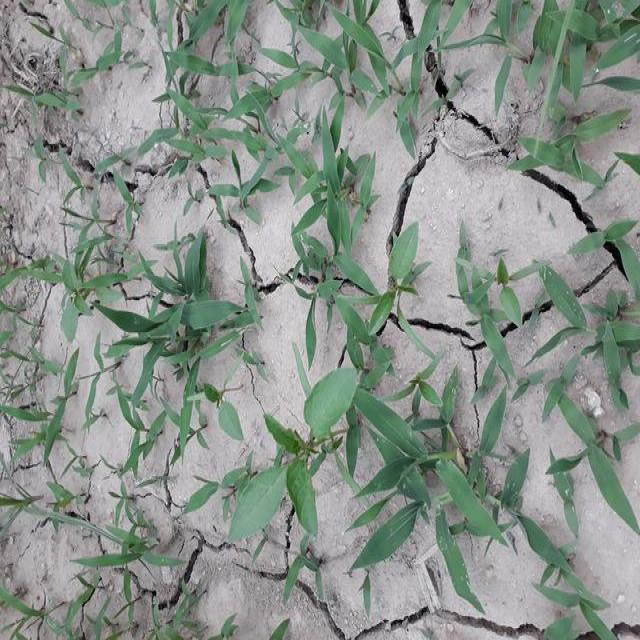weed: (477, 9, 640, 497), (285, 290, 527, 601), (0, 257, 185, 640), (146, 28, 382, 238), (106, 235, 236, 408), (226, 366, 350, 521), (510, 512, 610, 640)
